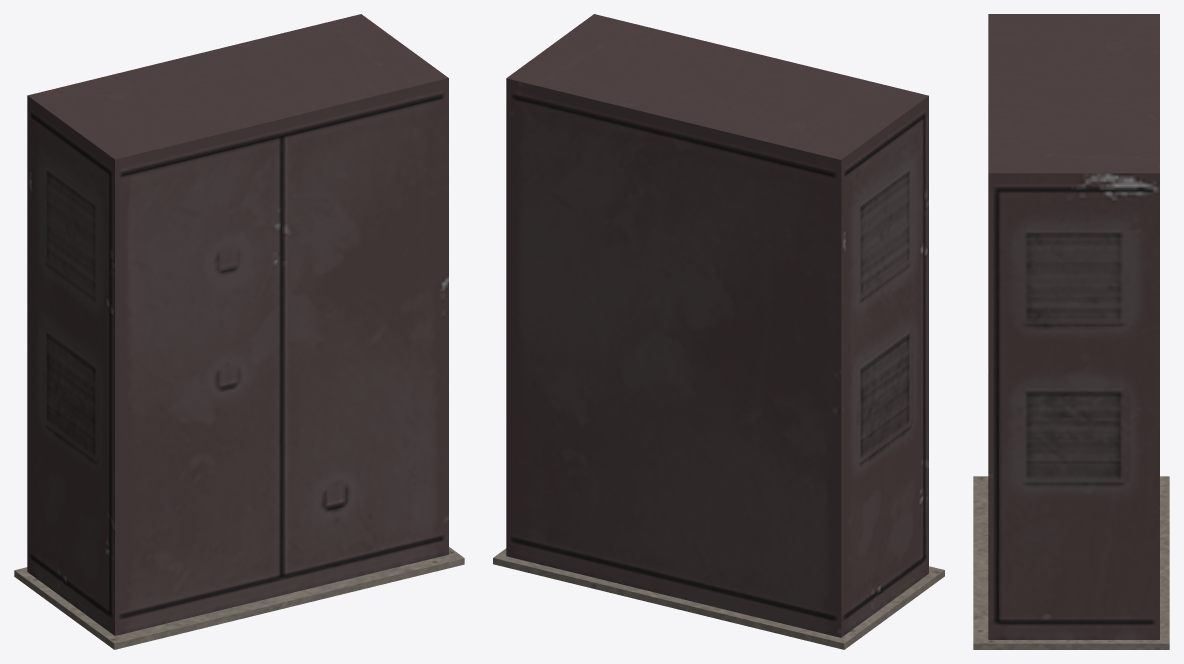
Rendered from jctlowGrdEquipA.fbx.
3 renders of one model, left to right at view 1: azimuth 30°, elevation 25°; view 2: azimuth 150°, elevation 25°; view 3: azimuth 270°, elevation 25°, orthographic. The views are drawn at different scales.
Parts seen in each view (by area): view 1: jctlowGrdEquipA; view 2: jctlowGrdEquipA; view 3: jctlowGrdEquipA.
Part boxes in pixels (left/top/right/bottom): jctlowGrdEquipA: left=14, top=14, right=464, bottom=649; jctlowGrdEquipA: left=493, top=14, right=944, bottom=649; jctlowGrdEquipA: left=973, top=14, right=1169, bottom=649.
Bounding box in the file's own units: 115 × 152 × 57.17.
1 material, 1 textured.
